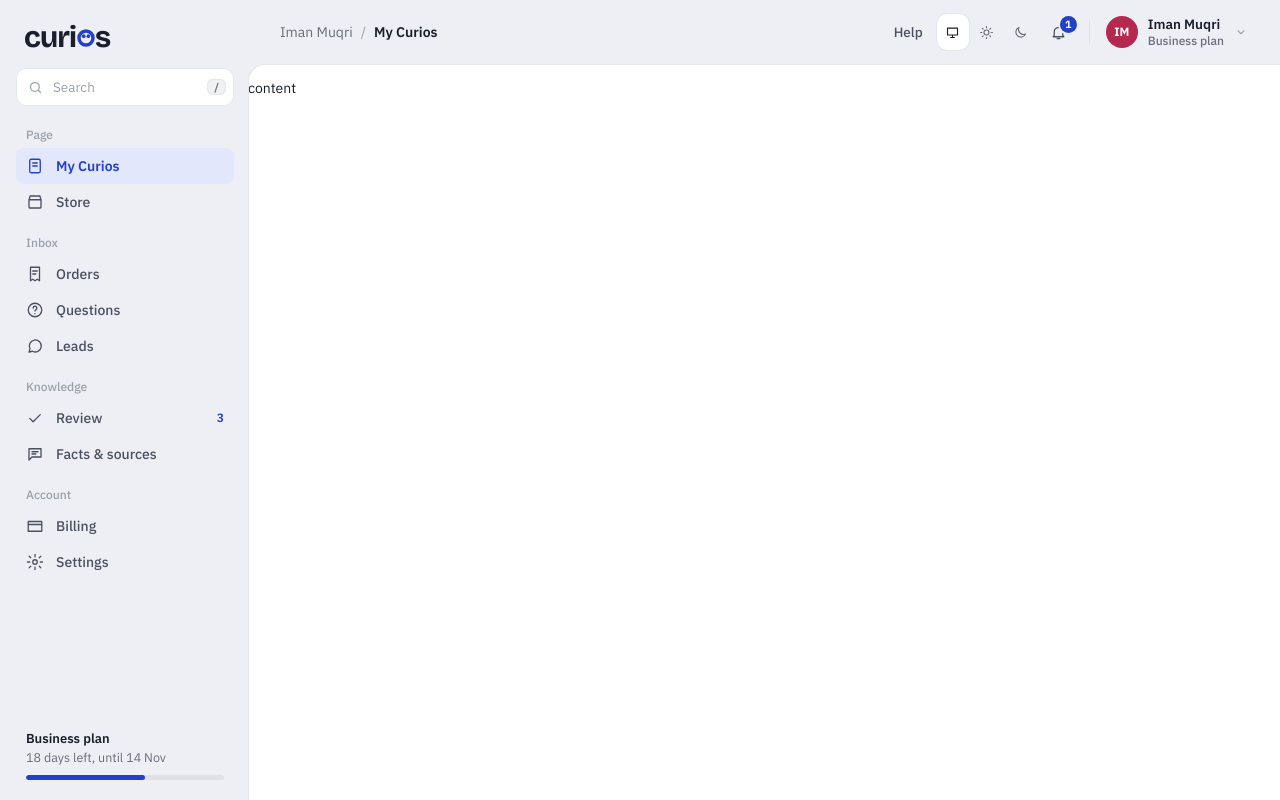
Test: search › narrows the nav to the modules whose names match, and says so when none do
The width and height of the screenshot is (1280, 800).
Type "or" into the search field named "Search the dashboard" at (125, 87), box [51,69,199,105]
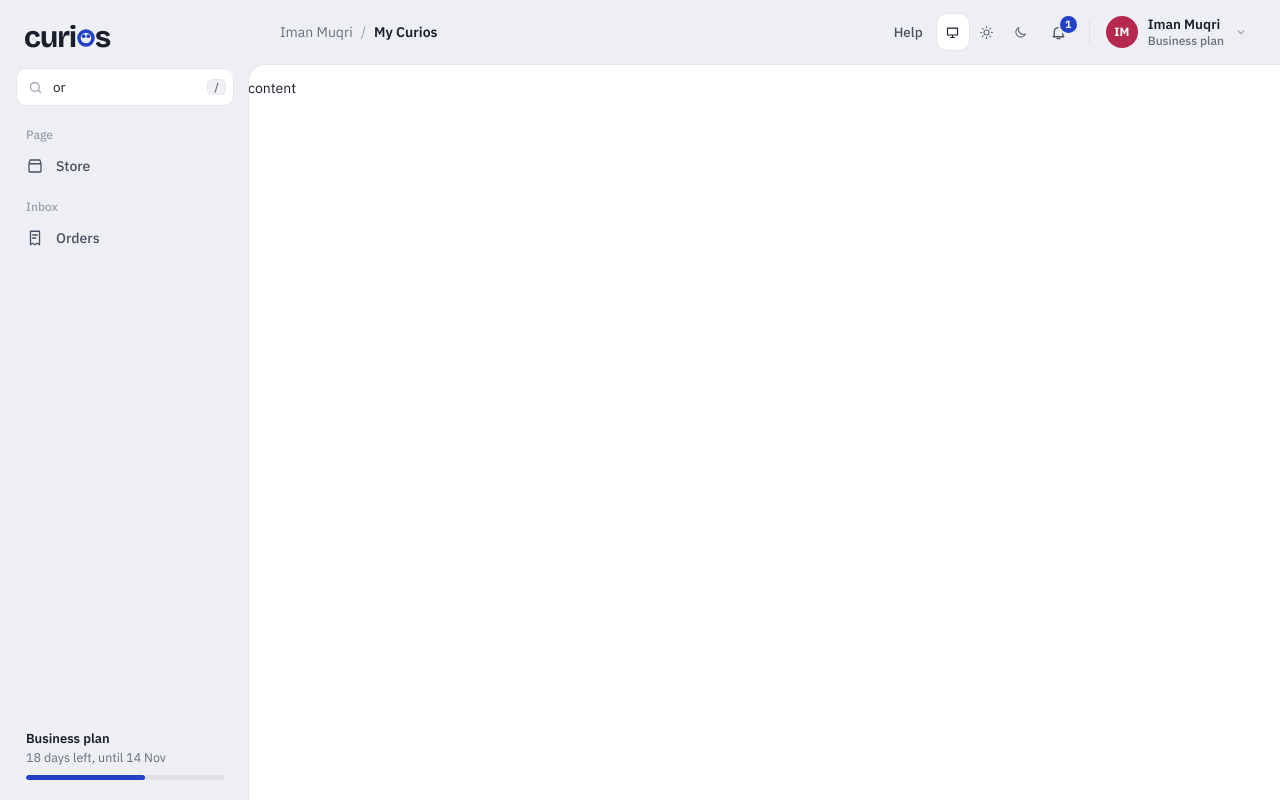
Result: the links read "Store", "Orders", in this order at [26,156,90,175]; [26,228,100,247]
Replace the text in the search field named "Search the dashboard" with "zzz" at (125, 87), box [51,69,199,105]
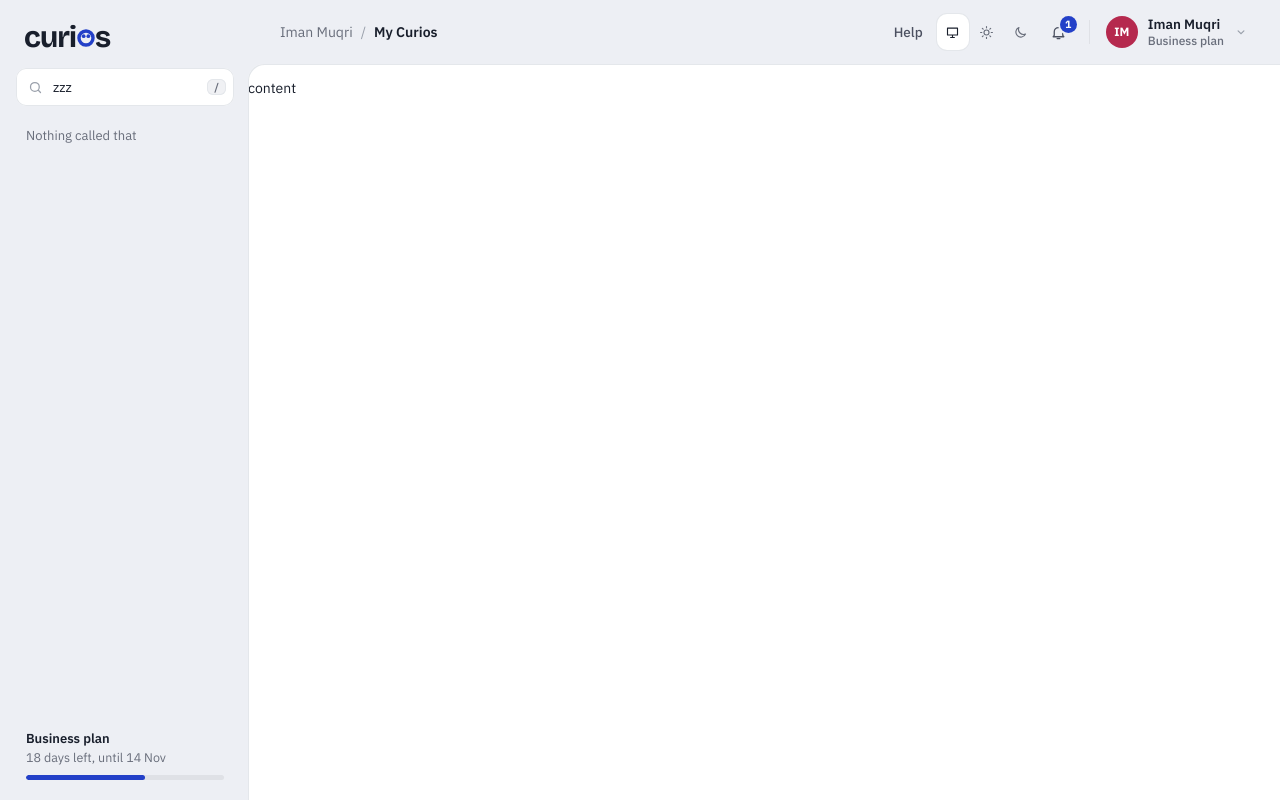
Result: the text "Nothing called that" is shown at [26,127,137,144]
